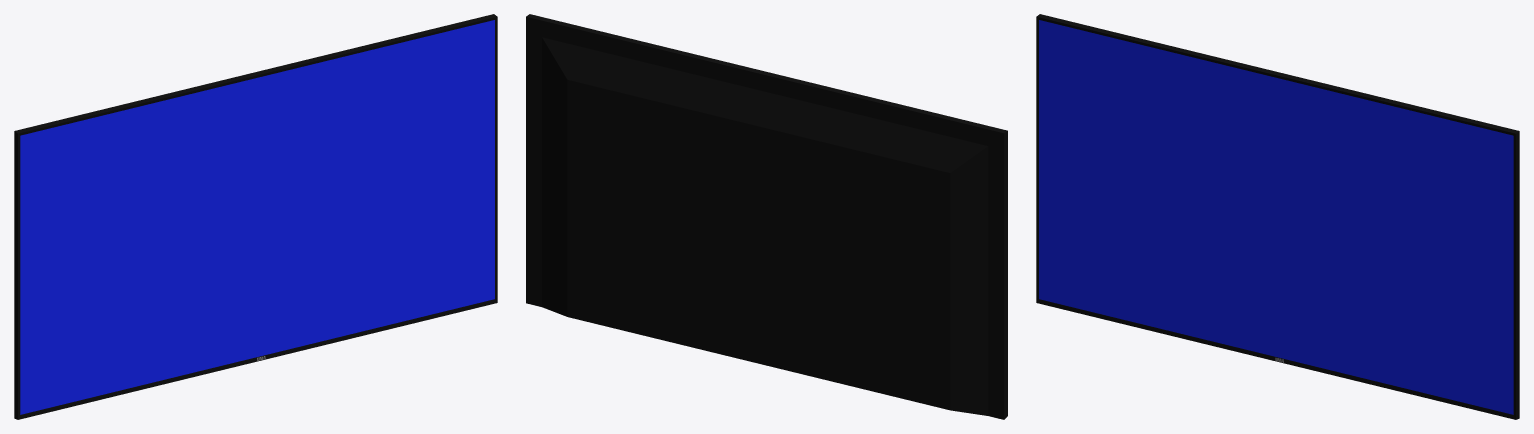
3 views of the same model, side by side, from view 1: azimuth 30°, elevation 25°; view 2: azimuth 150°, elevation 25°; view 3: azimuth 330°, elevation 25° (orthographic).
Visible parts, largest first — view 1: plain, Group91; view 2: Group91; view 3: plain, Group91.
Boxes of the visible parts, x1=… form: plain: x1=20, y1=20, x2=494, y2=414; Group91: x1=14, y1=14, x2=497, y2=419; Group91: x1=526, y1=14, x2=1007, y2=419; plain: x1=1039, y1=20, x2=1513, y2=414; Group91: x1=1036, y1=14, x2=1519, y2=419.
Bounding box in the file's own units: 53.18 × 1.95 × 30.46.
